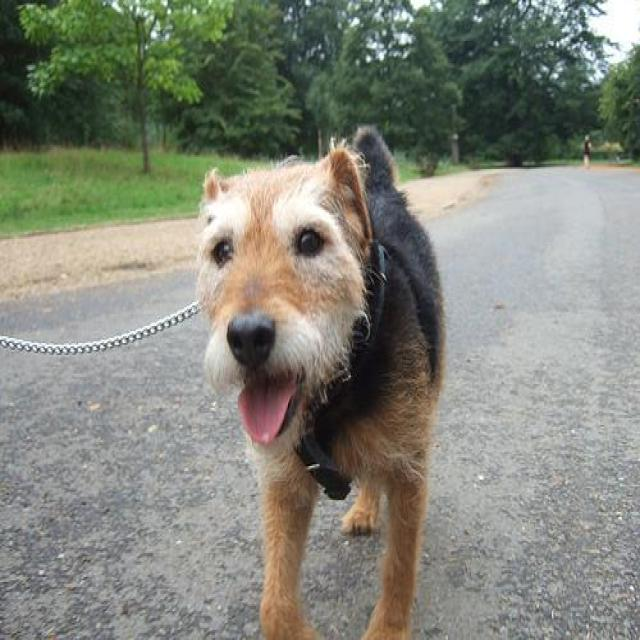happy: (158, 100, 509, 640)
